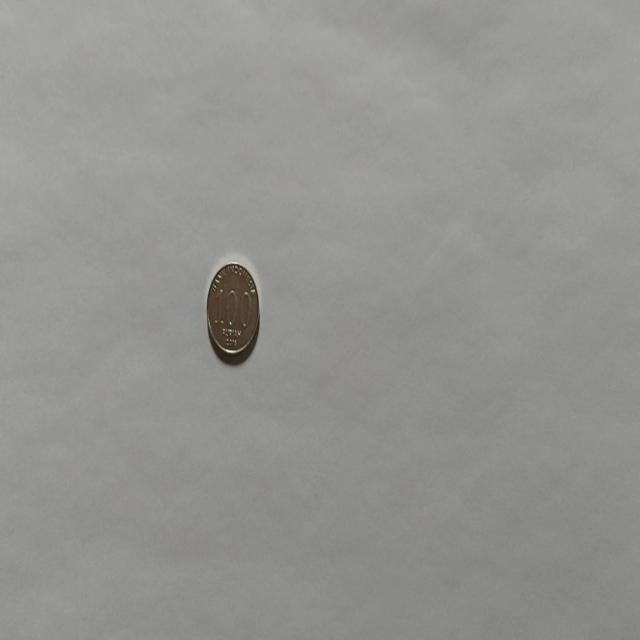seratus rupiah: (205, 260, 260, 362)
